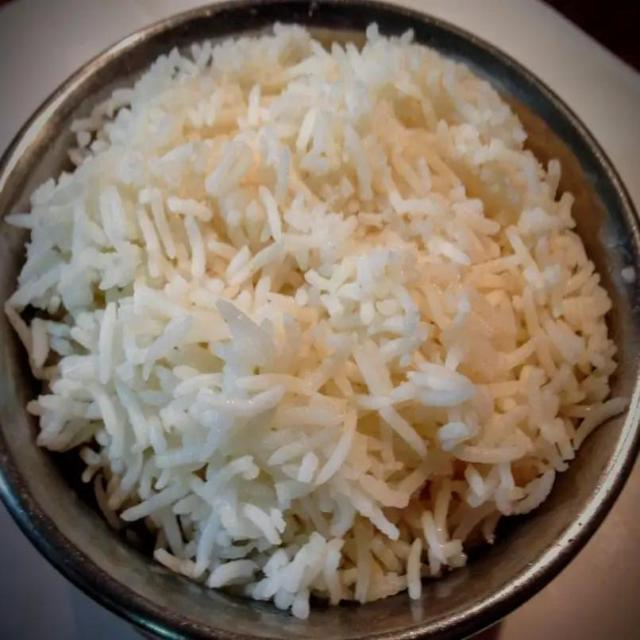rice: (6, 48, 615, 611)
